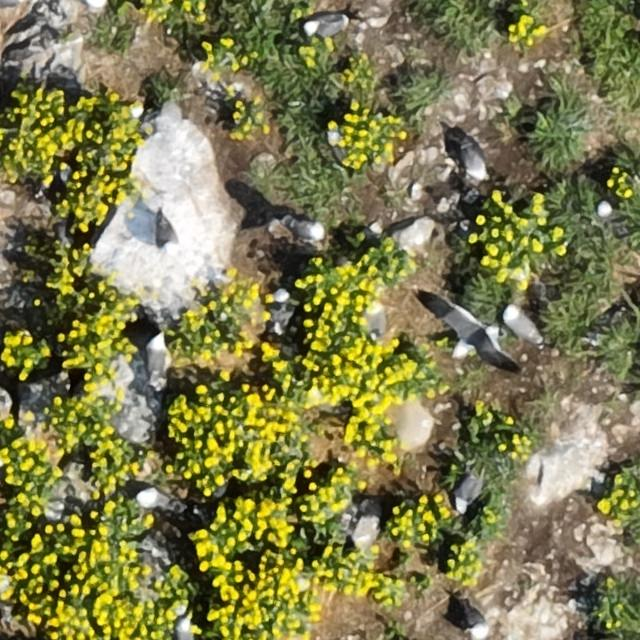F: (431, 297, 520, 370)
umineko: (506, 308, 540, 341), (462, 142, 487, 180), (455, 473, 480, 509), (148, 335, 168, 378), (305, 16, 345, 36), (272, 291, 292, 330), (288, 220, 324, 241), (157, 218, 177, 252), (138, 489, 171, 509), (465, 607, 487, 636), (366, 304, 384, 339), (175, 615, 191, 640), (81, 0, 106, 7)
